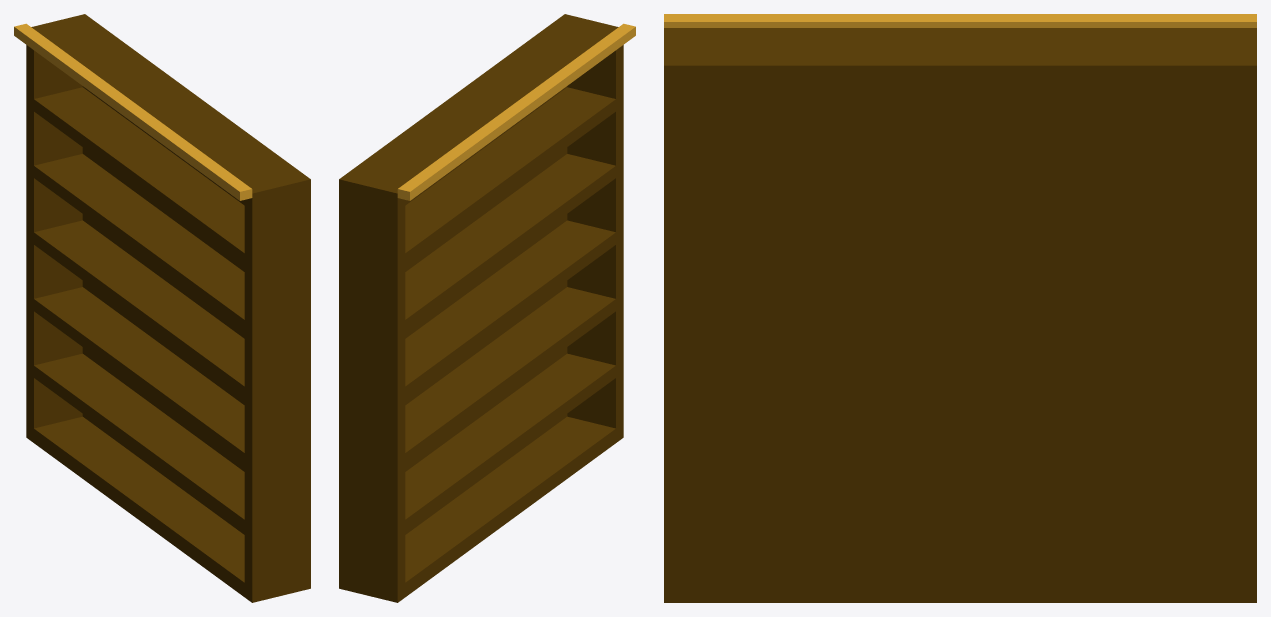
Rendered from bookCase_XL_ladderRail_empty.fbx.
3 views of the same model, side by side, from view 1: azimuth 30°, elevation 25°; view 2: azimuth 150°, elevation 25°; view 3: azimuth 270°, elevation 25° (orthographic). The views are drawn at different scales.
Visible parts, largest first — view 1: bookCase_XL_ladderRail_empty; view 2: bookCase_XL_ladderRail_empty; view 3: bookCase_XL_ladderRail_empty.
Boxes of the visible parts, bbox=[...] form: bookCase_XL_ladderRail_empty: bbox=[14, 14, 310, 602]; bookCase_XL_ladderRail_empty: bbox=[339, 14, 635, 602]; bookCase_XL_ladderRail_empty: bbox=[664, 14, 1256, 602].
Bounding box in the file's own units: 36.3 × 202 × 200.
